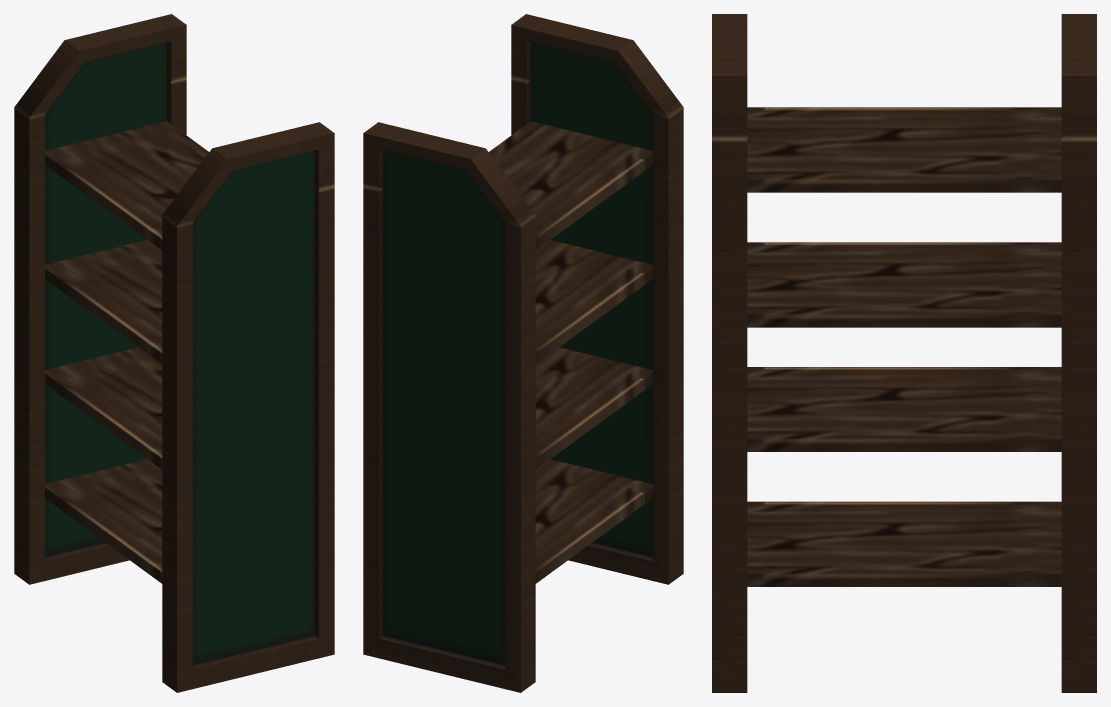
File: SM_shelf1.fbx
The picture shows the model from 3 angles, left to right: view 1: azimuth 30°, elevation 25°; view 2: azimuth 150°, elevation 25°; view 3: azimuth 270°, elevation 25°; orthographic projection. The views are drawn at different scales.
Parts seen in each view (by area): view 1: SM_shelf1; view 2: SM_shelf1; view 3: SM_shelf1.
Part boxes in pixels (x1,y1,x2,y2): SM_shelf1: (14,14,334,692); SM_shelf1: (363,14,683,692); SM_shelf1: (712,14,1096,692).
Size of the model in its own units: 1.24 by 3.93 by 2.22.
